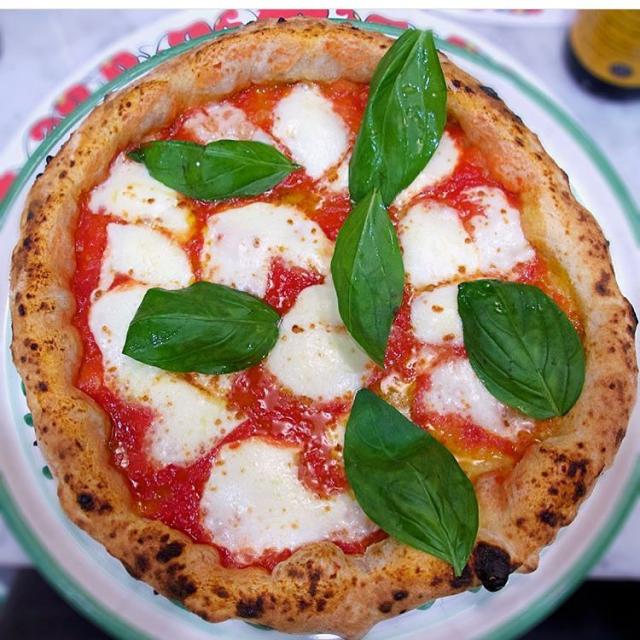basil: (344, 388, 477, 578), (455, 275, 588, 419), (349, 26, 446, 208), (122, 286, 282, 376), (330, 187, 404, 369), (128, 137, 304, 203)
pizza: (7, 14, 640, 640)
